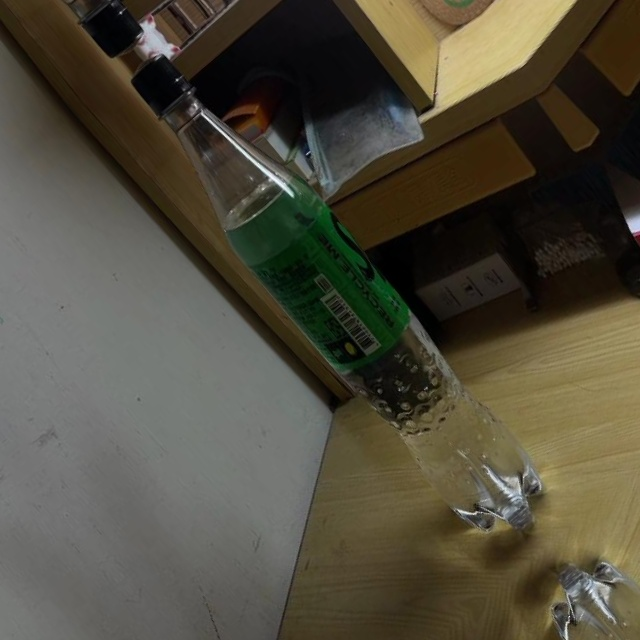Sprite: (104, 31, 570, 558)
